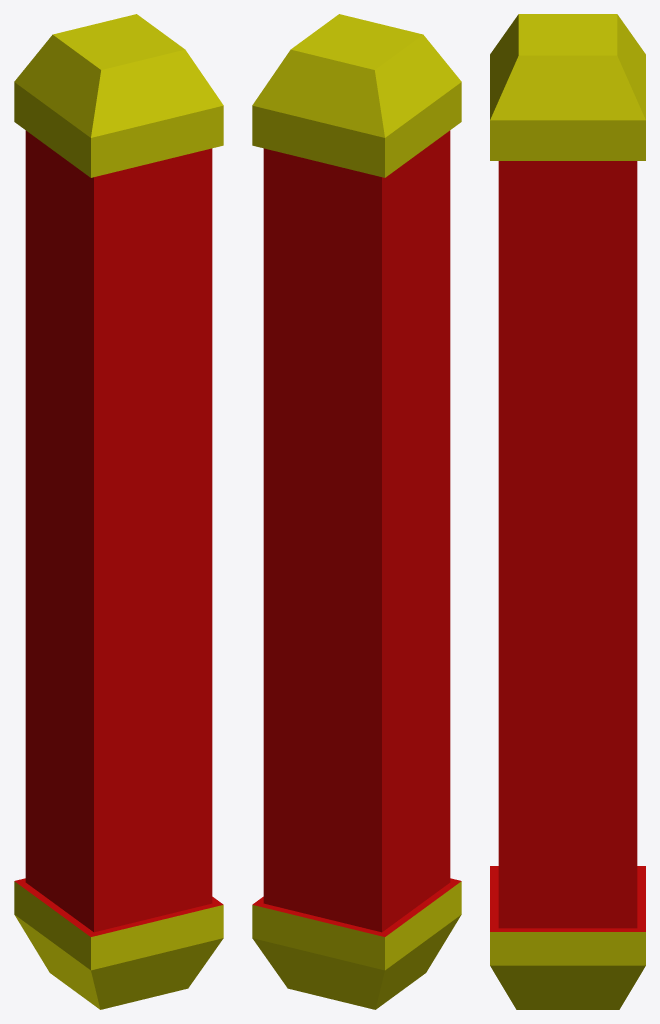
File: Cell.obj
3 views of the same model, side by side, from view 1: azimuth 30°, elevation 25°; view 2: azimuth 150°, elevation 25°; view 3: azimuth 270°, elevation 25° (orthographic).
Visible parts, largest first — view 1: Cube.006_Cube.007_Blue, Cube.006_Cube.007_Material; view 2: Cube.006_Cube.007_Blue, Cube.006_Cube.007_Material; view 3: Cube.006_Cube.007_Blue, Cube.006_Cube.007_Material.
Part boxes in pixels (<box>): Cube.006_Cube.007_Blue: <box>14,130,223,936</box>; Cube.006_Cube.007_Material: <box>14,14,223,1009</box>; Cube.006_Cube.007_Blue: <box>252,130,461,936</box>; Cube.006_Cube.007_Material: <box>252,14,461,1009</box>; Cube.006_Cube.007_Blue: <box>490,161,645,931</box>; Cube.006_Cube.007_Material: <box>490,14,645,1009</box>.
Bounding box in the file's own units: 0.4123 × 2.78 × 0.4123.
